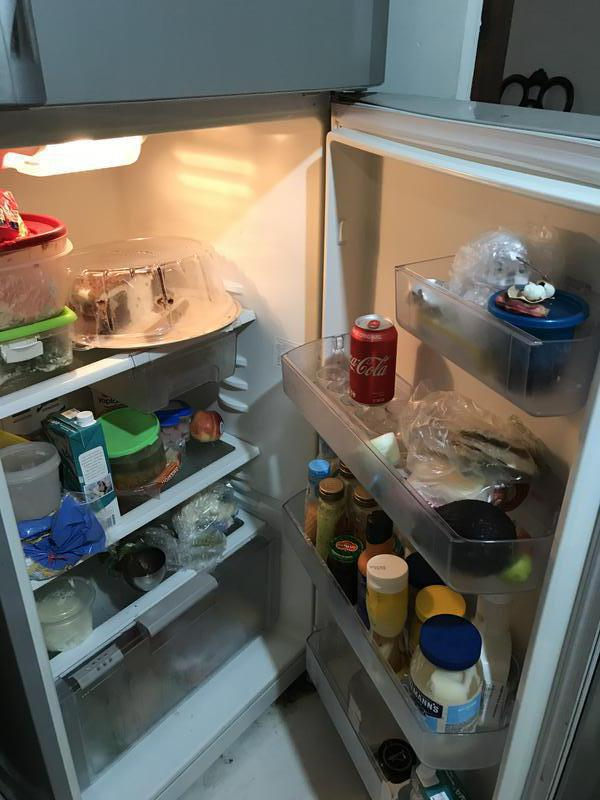coca_cola: (346, 313, 397, 405)
